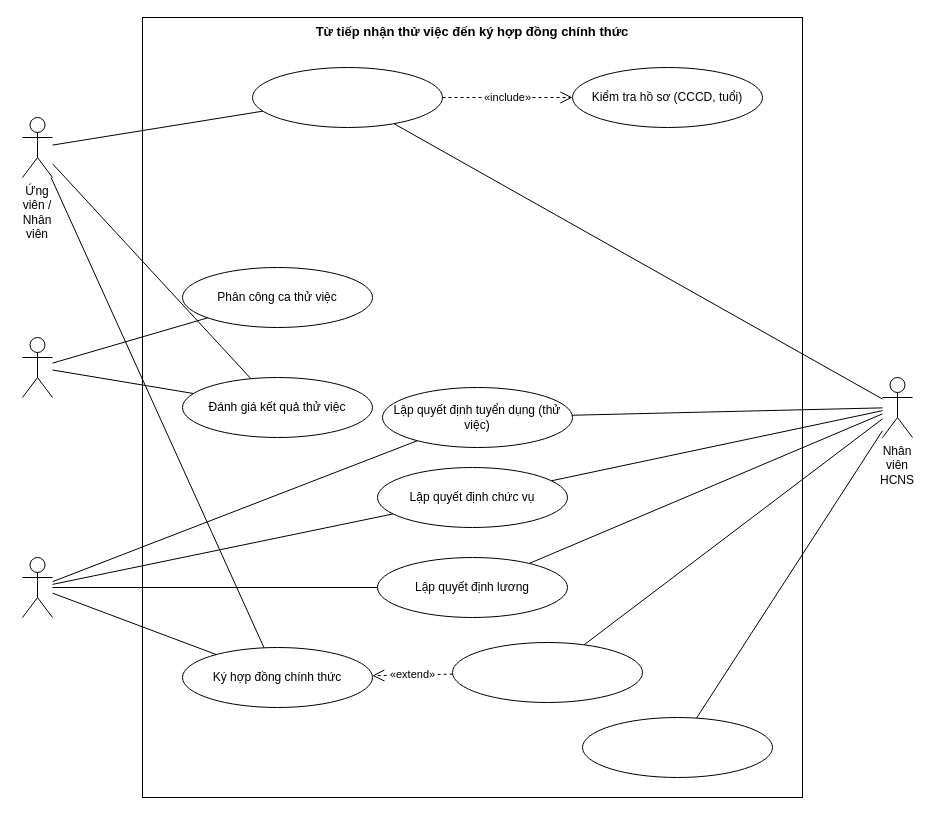
Image size: 932x815. Some labels were removed from this diagram. The centre of each missing label's shape, as x and y in pixels:
Cập nhật trạng thái nhân viên: point (677, 747)
Giám đốc: point (37, 587)
Lập hồ sơ BHXH - BHYT: point (547, 672)
Tiếp nhận hồ sơ ứng viên: point (347, 97)
Trưởng phòng: point (37, 367)
